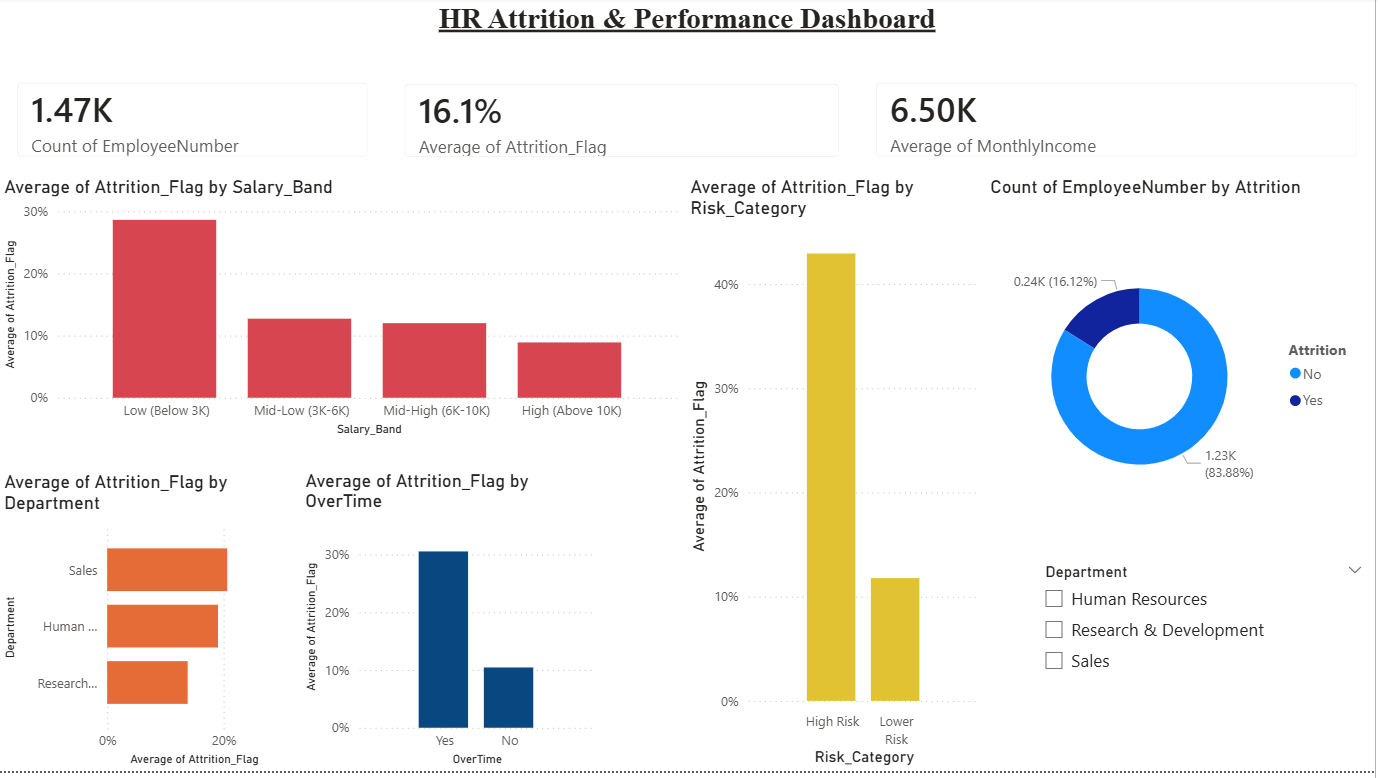

Layout of this report page (visuals, bound fields, positions):
{"tool":"powerbi","page":{"name":"Page 1","canvas":[1280,720],"ordinal":0},"visuals":[{"type":"cardVisual","fields":{"Data":["CountNonNull(hr_clean.EmployeeNumber)"]},"box":[0,62.8,360.5,103.5],"z":0},{"type":"cardVisual","fields":{"Data":["Avg(hr_clean.Attrition_Flag)"]},"box":[360.5,64,438.4,102.3],"z":1000},{"type":"cardVisual","fields":{"Data":["Avg(hr_clean.MonthlyIncome)"]},"box":[798.8,62.8,481.4,103.5],"z":2000},{"type":"clusteredBarChart","fields":{"Category":["hr_clean.Department"],"Y":["Avg(hr_clean.Attrition_Flag)"]},"box":[0,440.7,280.2,279.1],"z":3000},{"type":"clusteredColumnChart","fields":{"Category":["hr_clean.OverTime"],"Y":["Avg(hr_clean.Attrition_Flag)"]},"box":[280.2,439.5,279.1,280.2],"z":4000},{"type":"clusteredColumnChart","fields":{"Category":["hr_clean.Salary_Band"],"Y":["Avg(hr_clean.Attrition_Flag)"]},"box":[0,166.3,638.4,246.5],"z":5000},{"type":"clusteredColumnChart","fields":{"Category":["hr_clean.Risk_Category"],"Y":["Avg(hr_clean.Attrition_Flag)"]},"box":[638.4,166.3,279.1,553.5],"z":6000},{"type":"donutChart","fields":{"Category":["hr_clean.Attrition"],"Y":["CountNonNull(hr_clean.EmployeeNumber)"]},"box":[917.4,166.3,358.1,354.7],"z":7000},{"type":"slicer","fields":{"Values":["hr_clean.Department"]},"box":[960,520.5,320,200.5],"z":8000},{"type":"textbox","box":[0,0,1280.2,45.3],"z":8001}]}

Visuals, with their boxes in screenshot pixels (x1, y1, x2, y2), scaled from the page's 1280x720 canvas onto the 1378x778 screenshot:
cardVisual - CountNonNull(hr_clean.EmployeeNumber): (left=0, top=68, right=388, bottom=180)
cardVisual - Avg(hr_clean.Attrition_Flag): (left=388, top=69, right=860, bottom=180)
cardVisual - Avg(hr_clean.MonthlyIncome): (left=860, top=68, right=1377, bottom=180)
clusteredBarChart - hr_clean.Department x Avg(hr_clean.Attrition_Flag): (left=0, top=476, right=302, bottom=777)
clusteredColumnChart - hr_clean.OverTime x Avg(hr_clean.Attrition_Flag): (left=302, top=475, right=602, bottom=777)
clusteredColumnChart - hr_clean.Salary_Band x Avg(hr_clean.Attrition_Flag): (left=0, top=180, right=687, bottom=446)
clusteredColumnChart - hr_clean.Risk_Category x Avg(hr_clean.Attrition_Flag): (left=687, top=180, right=988, bottom=777)
donutChart - hr_clean.Attrition x CountNonNull(hr_clean.EmployeeNumber): (left=988, top=180, right=1373, bottom=563)
slicer - hr_clean.Department: (left=1034, top=562, right=1377, bottom=777)
textbox: (left=0, top=0, right=1377, bottom=49)
